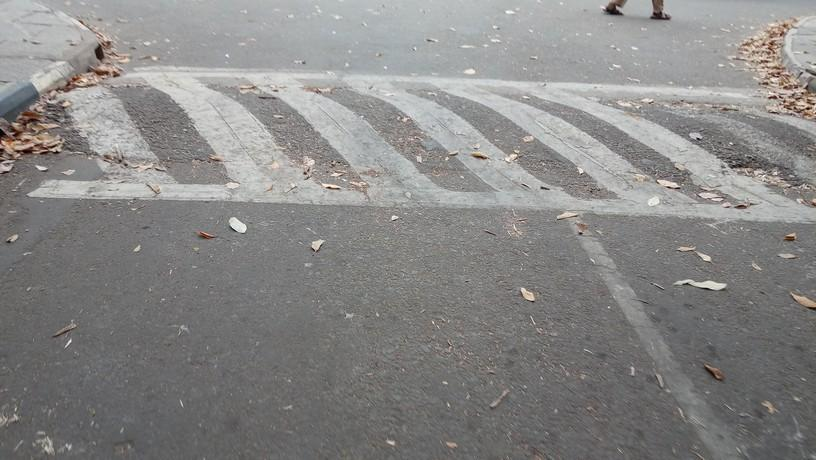speed-bump: (38, 69, 814, 217)
